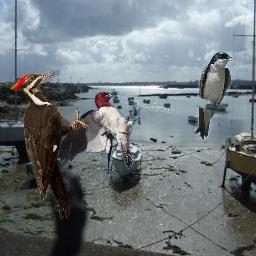Swallow: (195, 52, 233, 139)
Woodpecker: (10, 70, 90, 220), (57, 89, 141, 173)
